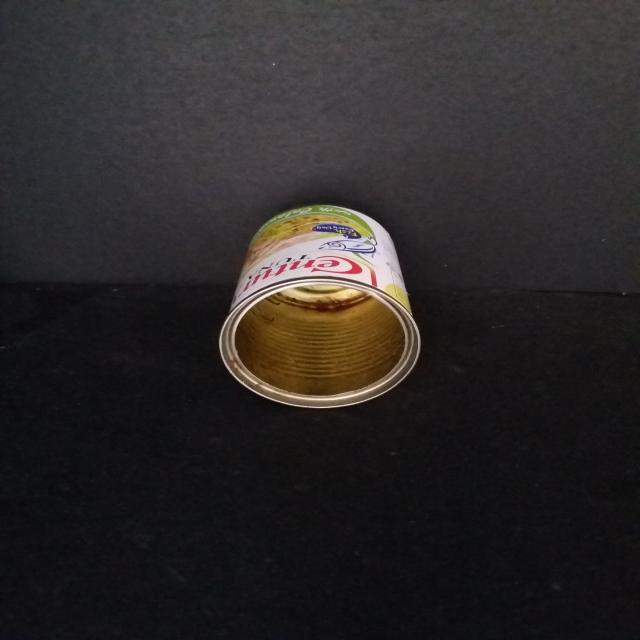metal-can: (218, 200, 424, 410)
